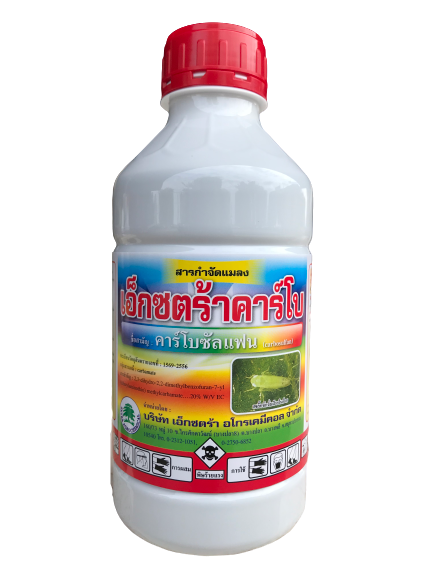Insecticide: (108, 16, 321, 563)
